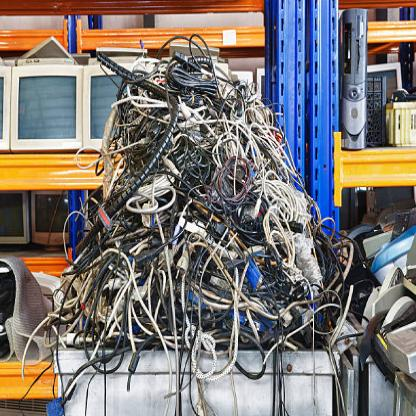wires: (20, 30, 378, 414)
